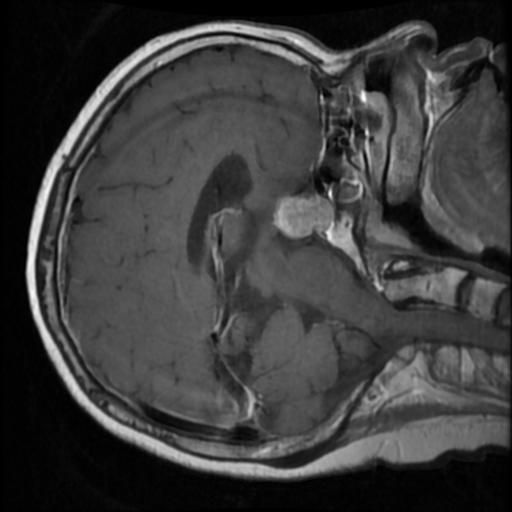pituitary tumour: (271, 196, 331, 237)
